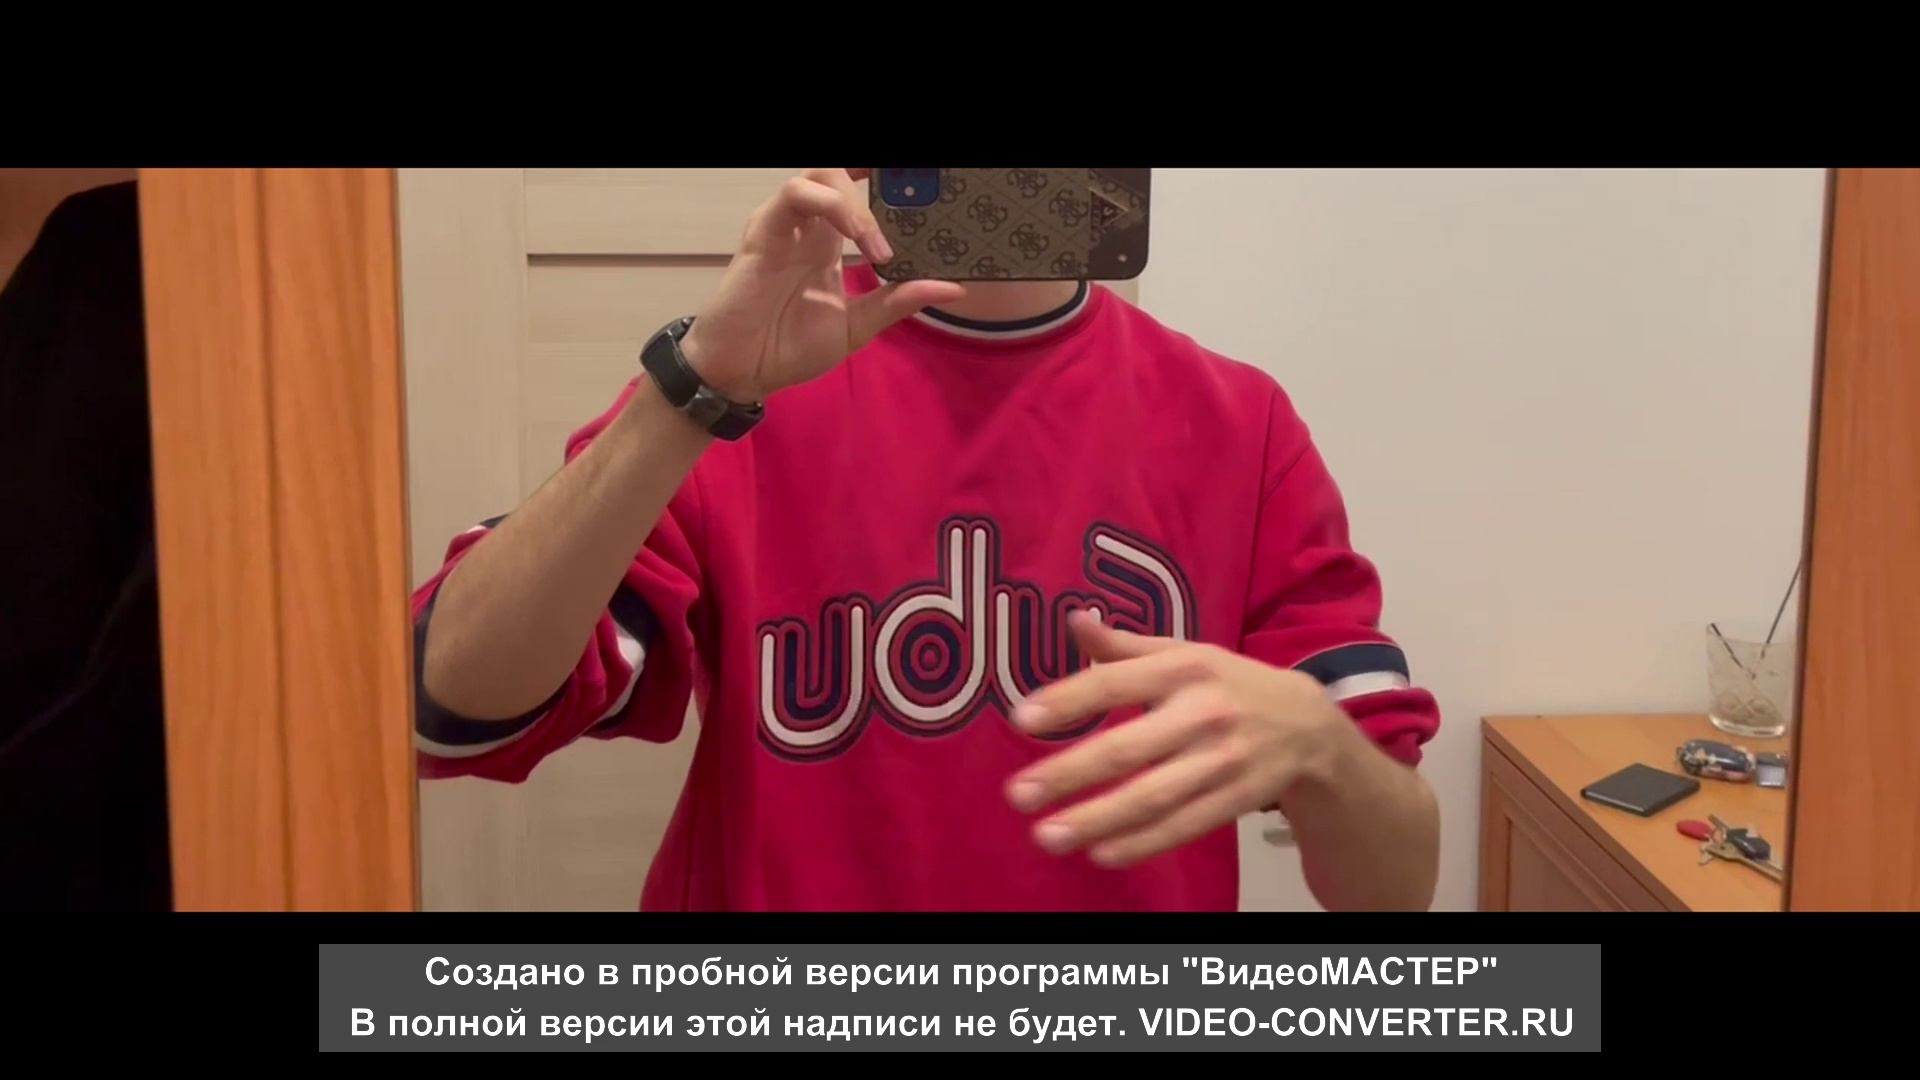Кисть: (1007, 613, 1308, 866)
